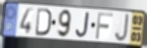4: (19, 7, 33, 36)
9: (57, 9, 73, 39)
D: (35, 7, 52, 37)
F: (95, 12, 114, 41)
J: (114, 13, 130, 43), (74, 12, 91, 39)
